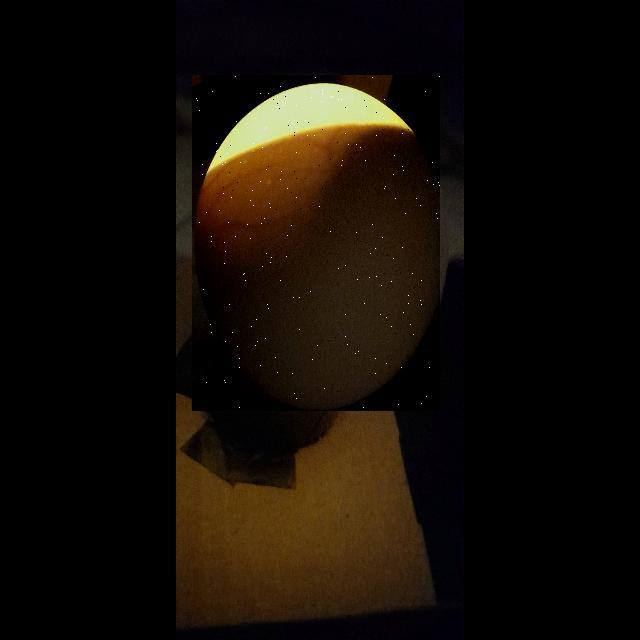Fertile: (192, 75, 440, 411)
